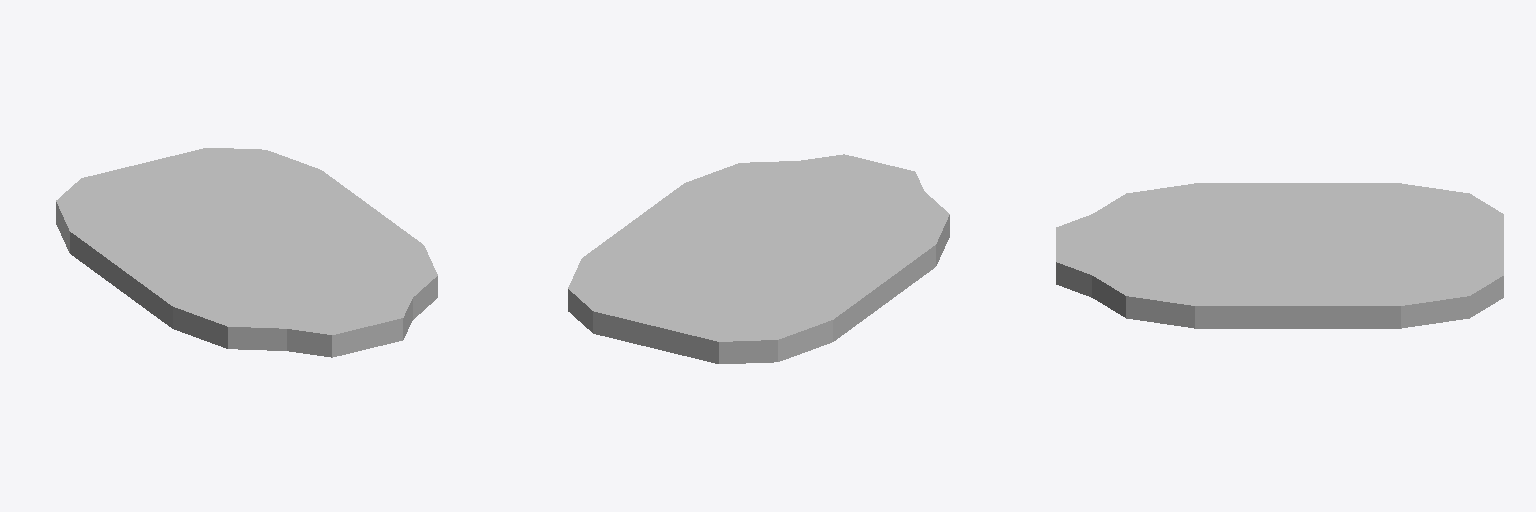
Rendered from GoodPad.obj.
The picture shows the model from 3 angles: view 1: azimuth 30°, elevation 25°; view 2: azimuth 150°, elevation 25°; view 3: azimuth 270°, elevation 25°; orthographic projection.
Size of the model in its own units: 16.34 by 1.39 by 25.17.